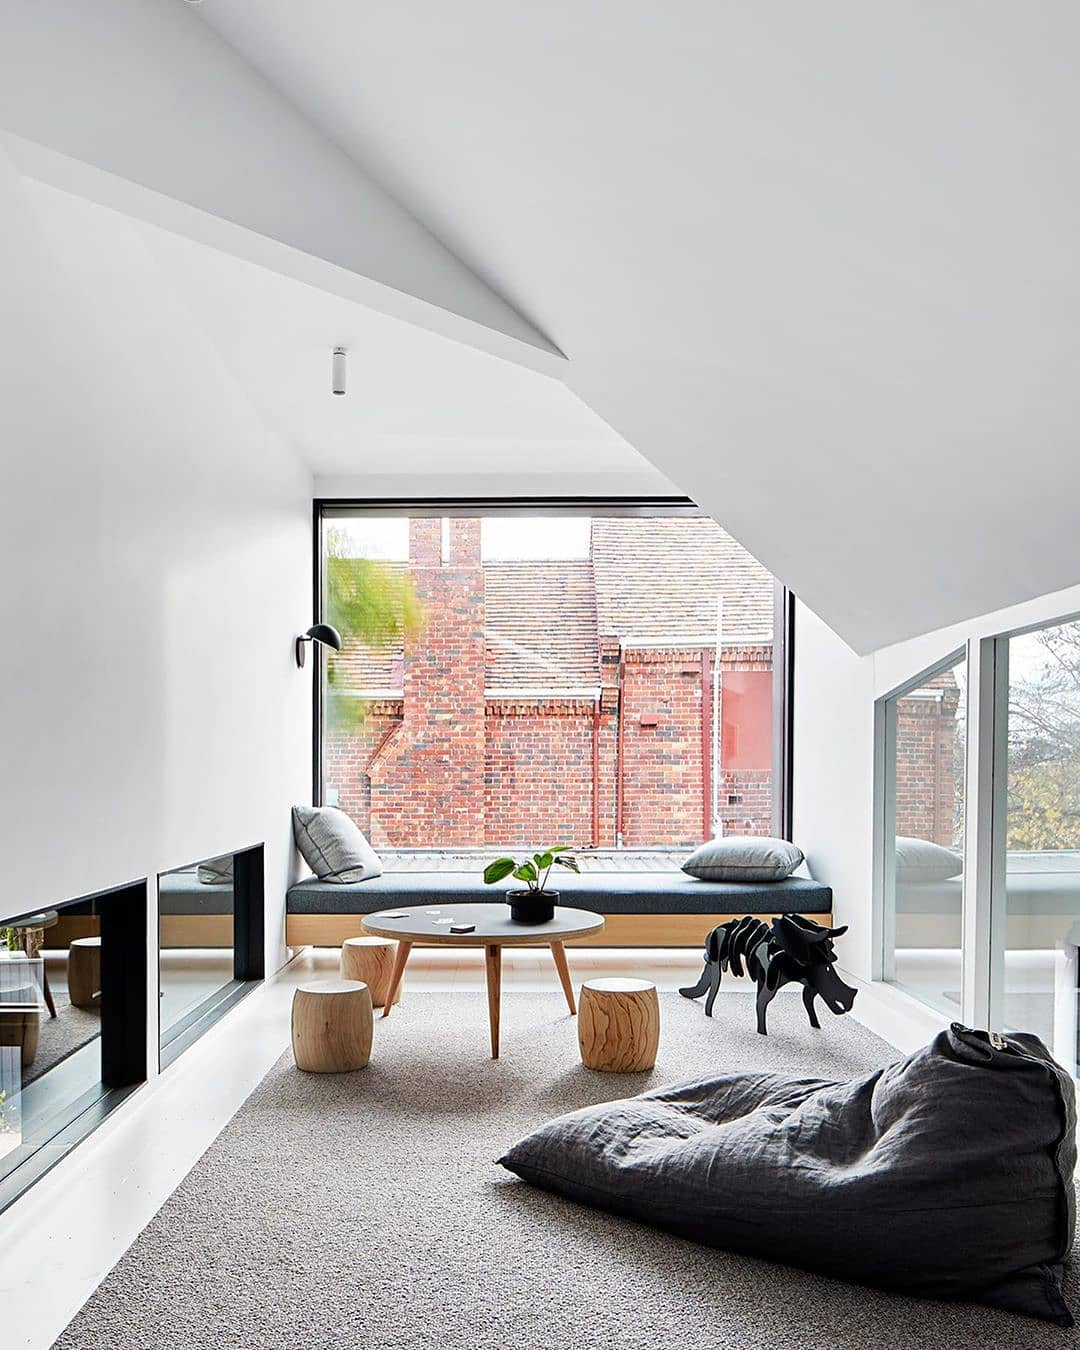Bantal: (293, 802, 380, 886), (680, 831, 811, 877)
Meja: (365, 906, 588, 1025)
Tanaman: (492, 854, 559, 924)
